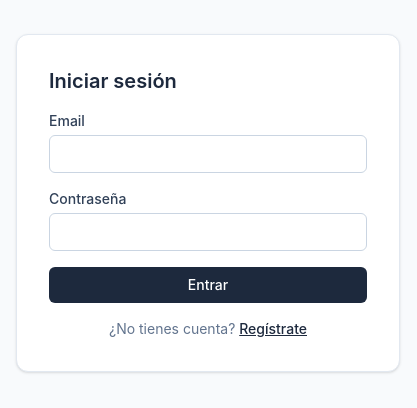
it: LoginPage › shows the backend's error message on invalid credentials
Type "demo@example.com" into the field labelled "Email".
click(208, 154); type("demo@example.com")  # box [49, 135, 367, 173]
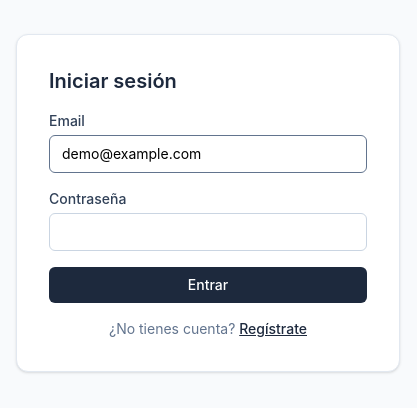
Type "wrongpass" into the password field labelled "Contraseña".
click(208, 232); type("wrongpass")  # box [49, 213, 367, 251]
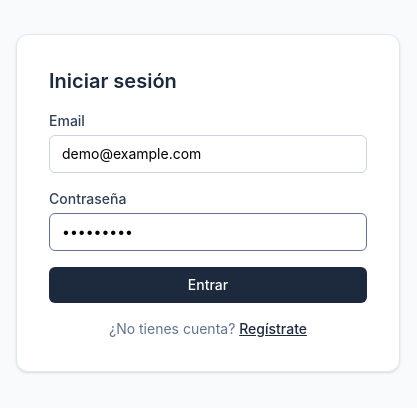
Click the button "Entrar".
click(208, 285)  # box [49, 267, 367, 303]
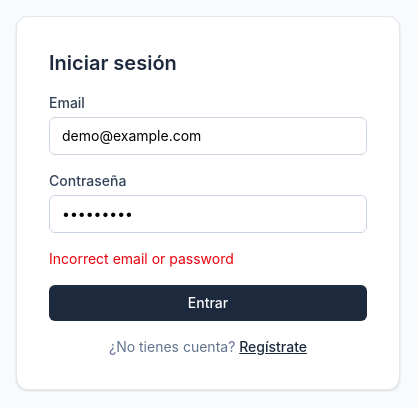
Expected: the text "Incorrect email or password" is shown, [49, 250, 234, 267]
